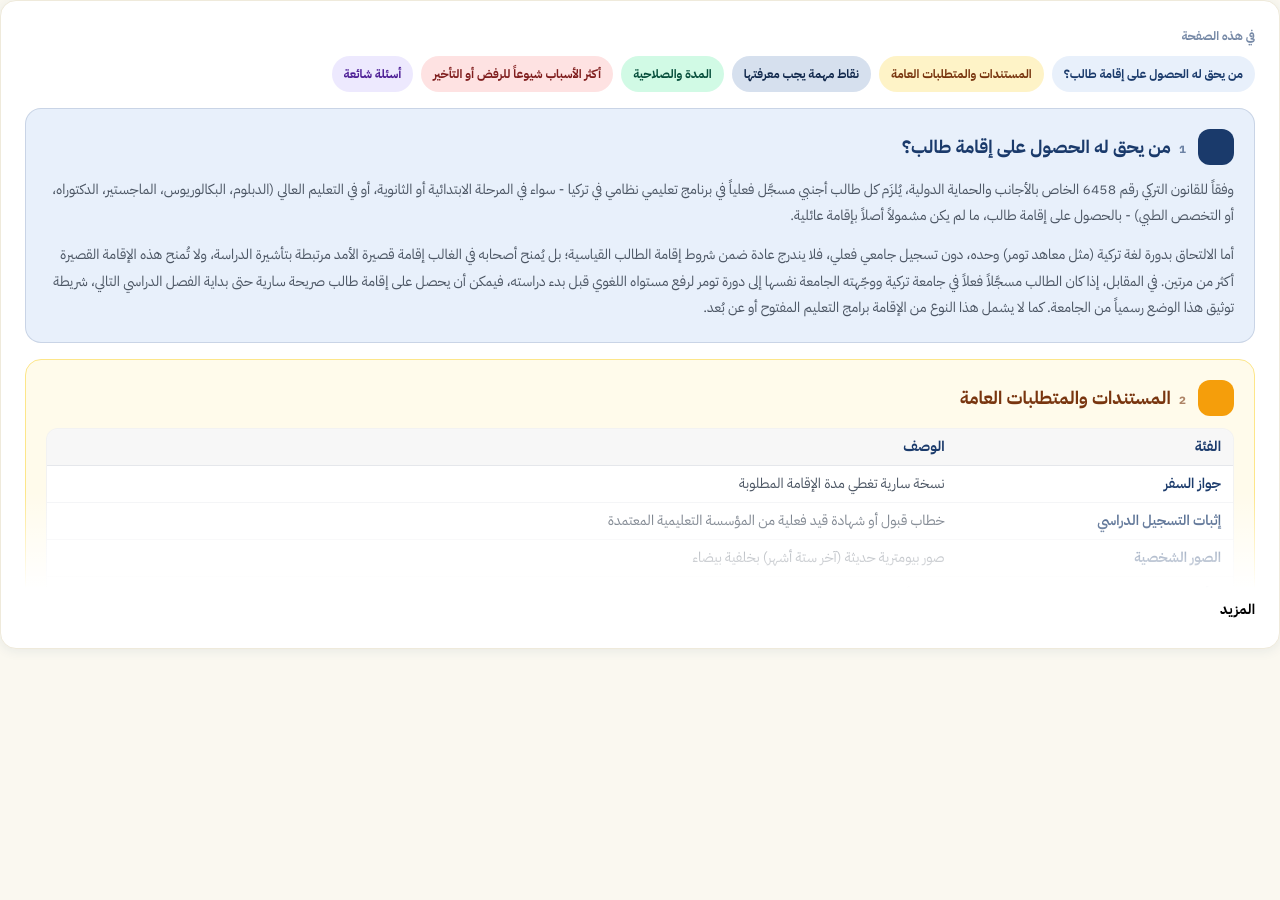
Test: ServiceBody › keeps the whole text in the DOM while folded, and unfolds on "read more"
Click the button "المزيد".
click(1238, 610)  # box top-left (1220, 600), bottom-right (1255, 620)
(page scrolled)
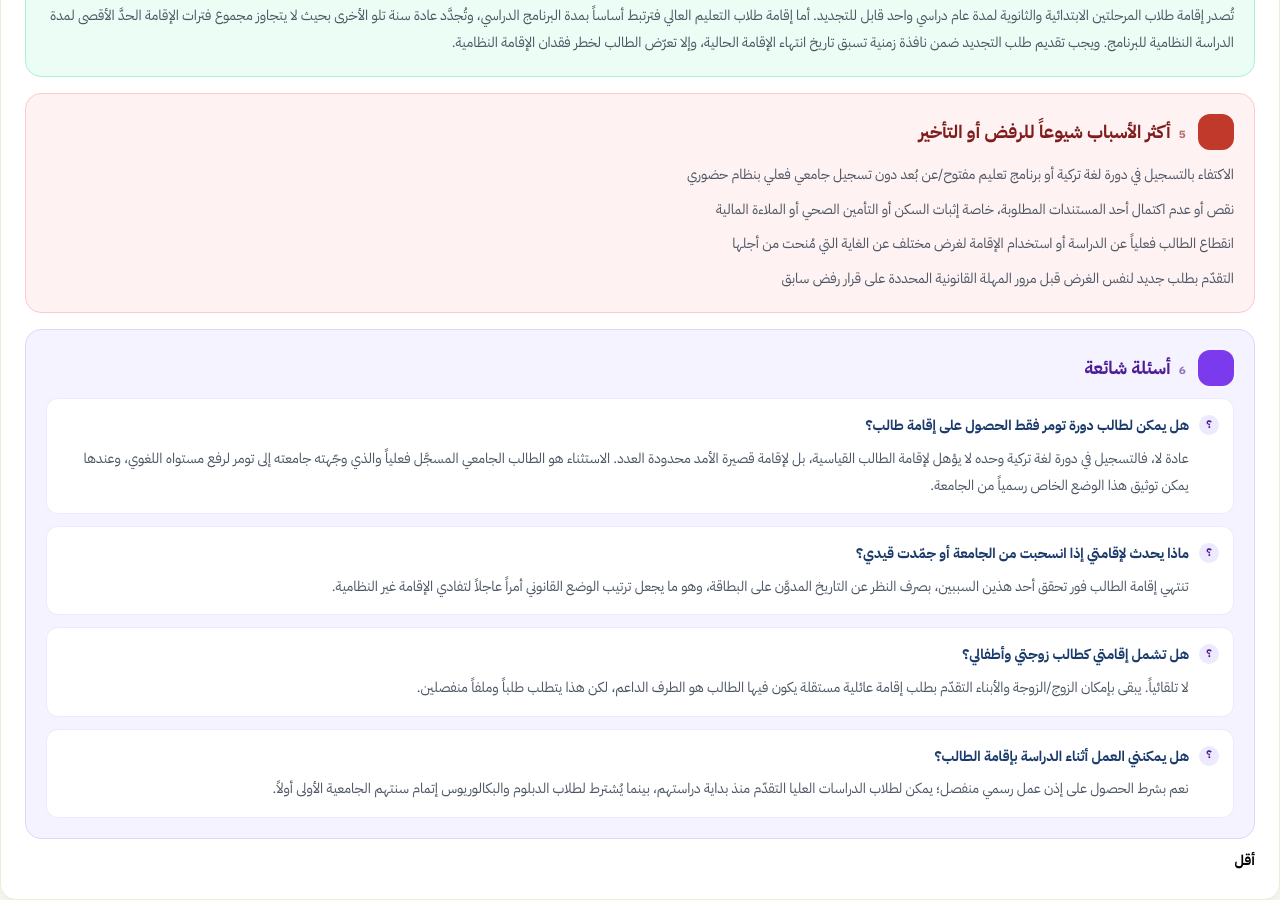
Expected: the button "أقل" is shown, top-left (1234, 851), bottom-right (1255, 871)
